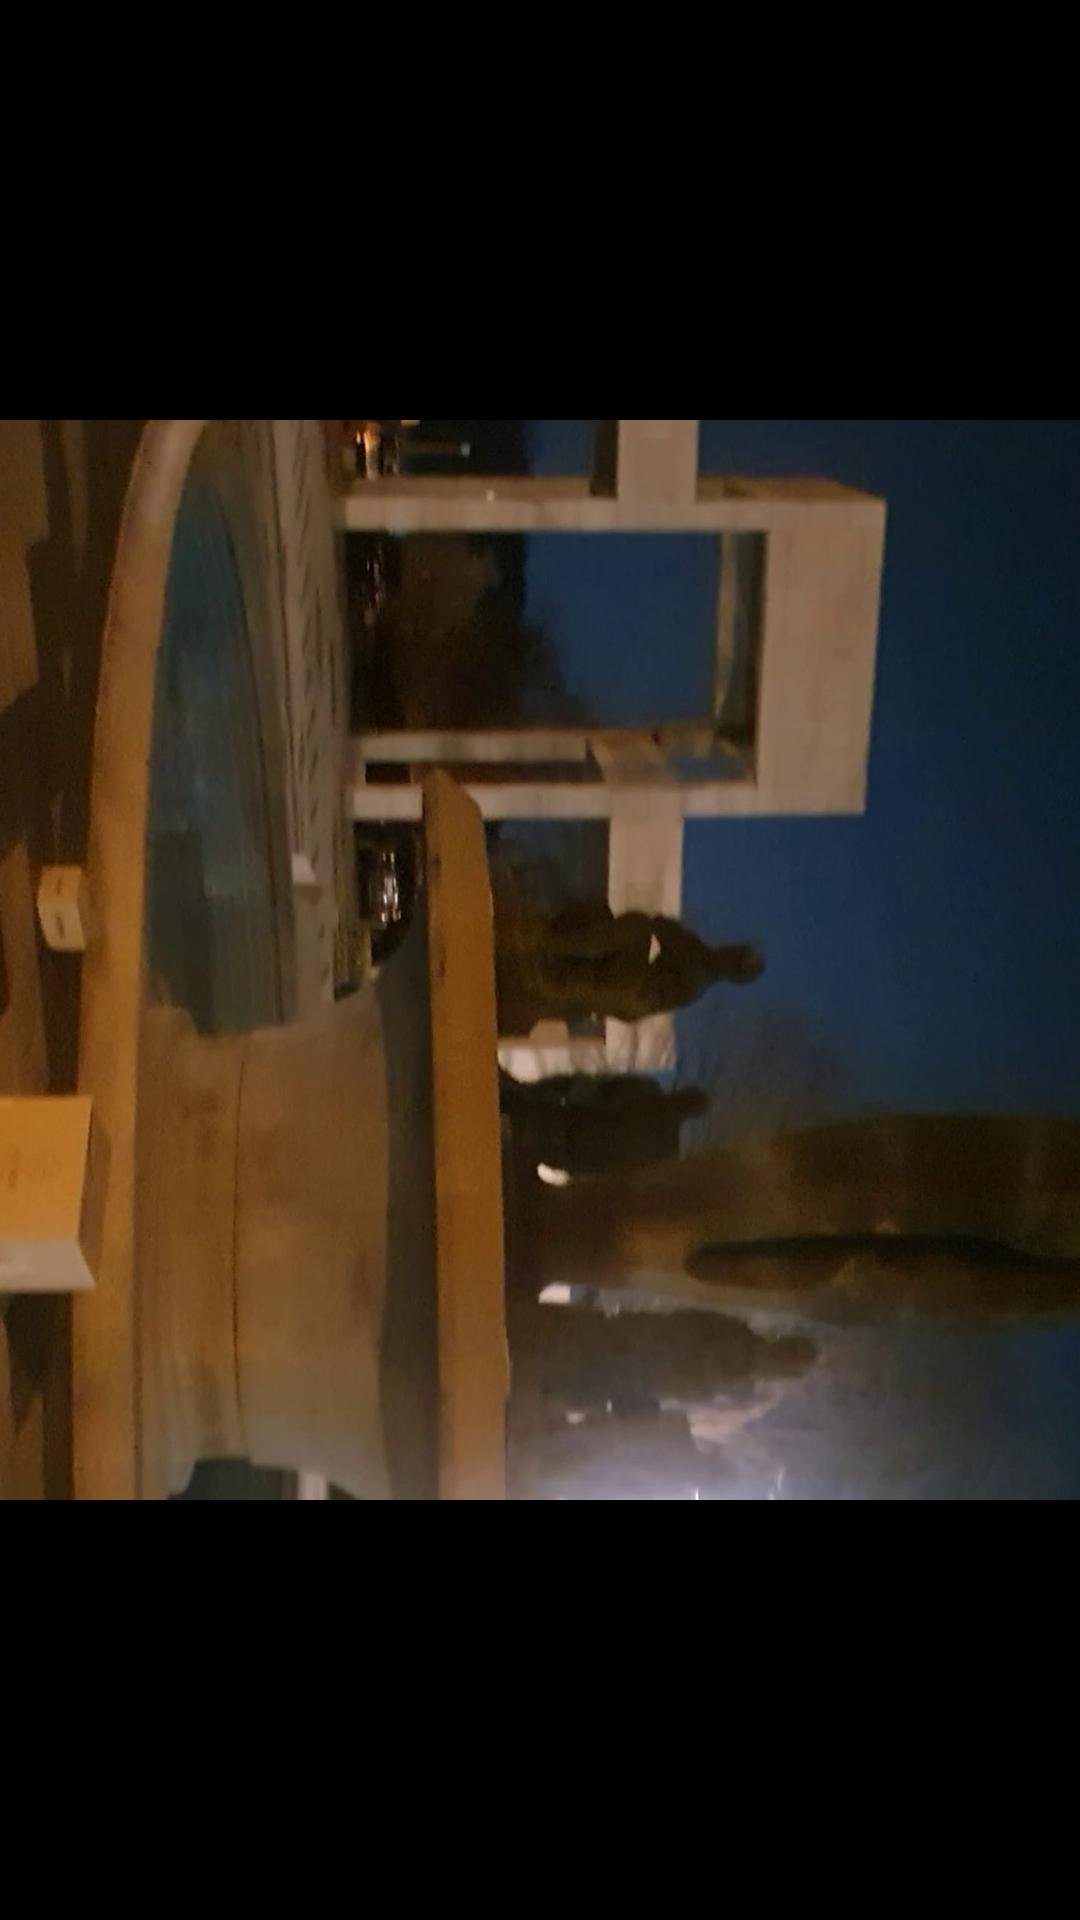Box: (0, 1081, 123, 1325), (15, 861, 102, 965)
